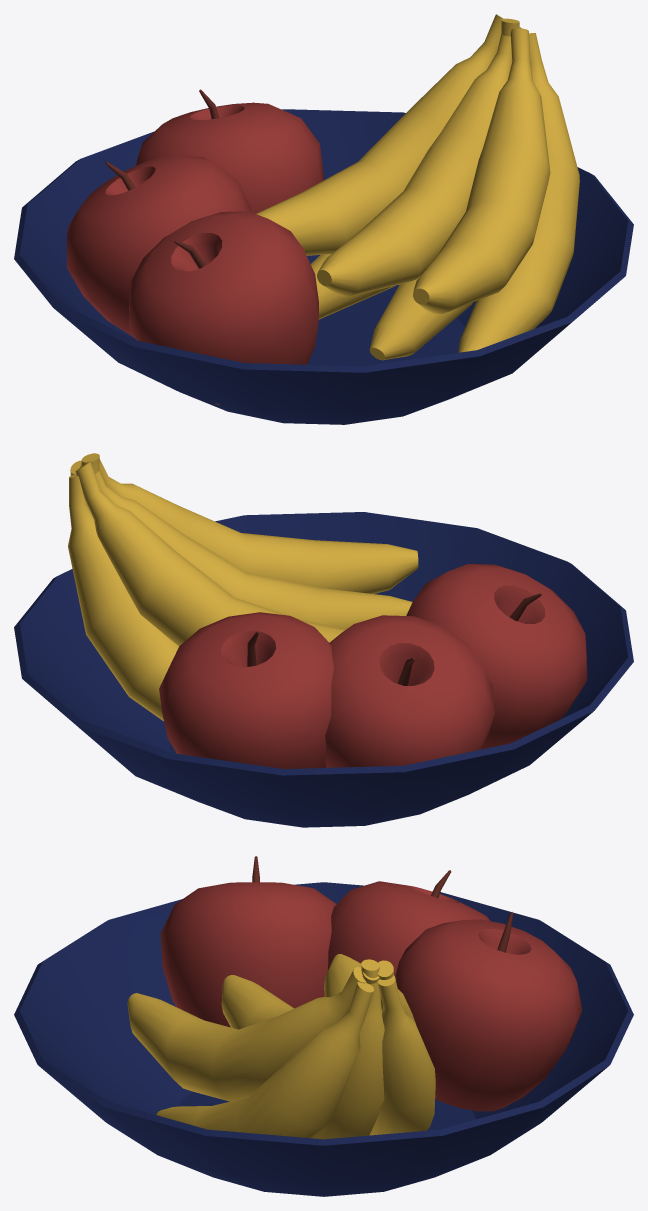
The model's file is Fruteira.fbx.
3 views of the same model, one above another, from view 1: azimuth 30°, elevation 25°; view 2: azimuth 150°, elevation 25°; view 3: azimuth 270°, elevation 25° (orthographic).
Visible parts, largest first — view 1: Fruteira, Maca.001, Banana, Banana.004, Maca, Banana.005, Maca.002, Banana.003, Banana.001, Banana.002; view 2: Fruteira, Maca.002, Maca, Maca.001, Banana.005, Banana, Banana.002, Banana.004; view 3: Fruteira, Maca.002, Maca.001, Banana, Banana.003, Maca, Banana.002, Banana.001, Banana.004, Banana.005.
Boxes of the visible parts, <box> form: Fruteira: <box>14,109,633,424</box>; Maca.001: <box>129,211,318,404</box>; Banana: <box>413,28,550,313</box>; Banana.004: <box>317,26,521,296</box>; Maca: <box>67,155,251,337</box>; Banana.005: <box>256,14,503,255</box>; Maca.002: <box>135,89,323,213</box>; Banana.003: <box>458,33,579,352</box>; Banana.001: <box>369,18,519,360</box>; Banana.002: <box>310,254,394,319</box>; Fruteira: <box>14,512,633,827</box>; Maca.002: <box>159,612,333,768</box>; Maca: <box>325,615,494,767</box>; Maca.001: <box>406,564,587,749</box>; Banana.005: <box>75,461,345,646</box>; Banana: <box>93,453,418,593</box>; Banana.002: <box>68,474,178,721</box>; Banana.004: <box>80,465,412,629</box>; Fruteira: <box>14,882,633,1196</box>; Maca.002: <box>395,912,582,1111</box>; Maca.001: <box>160,856,336,1027</box>; Banana: <box>127,967,366,1101</box>; Banana.003: <box>156,981,373,1138</box>; Maca: <box>327,870,490,976</box>; Banana.002: <box>369,975,435,1135</box>; Banana.001: <box>312,959,384,1139</box>; Banana.004: <box>221,971,379,1029</box>; Banana.005: <box>324,954,415,1023</box>.
Size of the model in its own units: 957 by 458 by 957.
